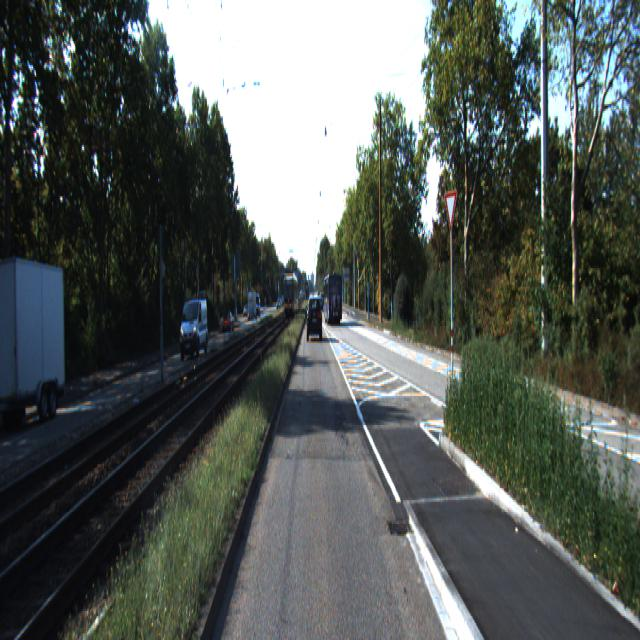Car: (0, 254, 70, 432), (179, 301, 210, 363), (322, 272, 343, 325), (307, 298, 322, 344)
